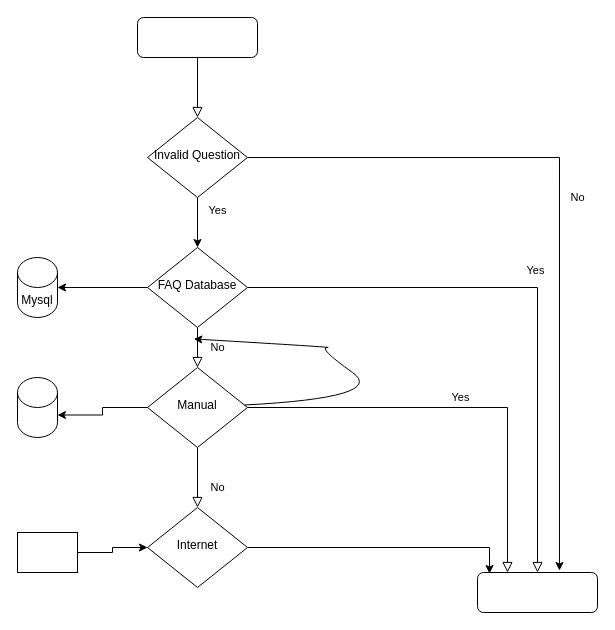
The diagram is 615 pixels wide and 630 high, and some of its shapes have lost their labels. Here are the shapes that lost their labels. From the top down, the centre of each, then its label:
the point at 197,37: User Input
the point at 37,407: faiss
the point at 537,592: Print
